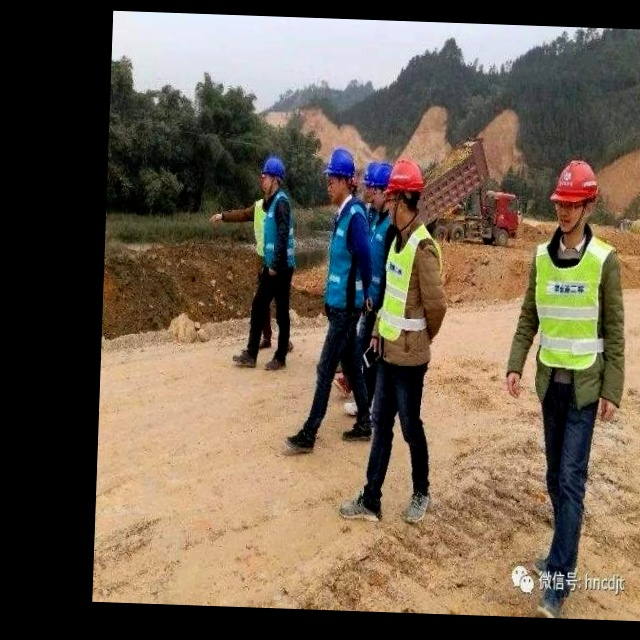Con_Chaleco: (527, 232, 619, 381), (375, 227, 448, 359)
